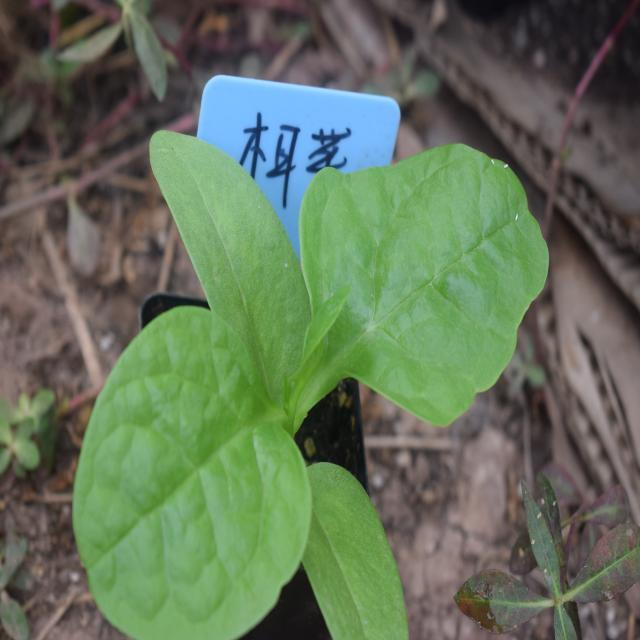Ceylon spinach: (92, 113, 555, 625)
